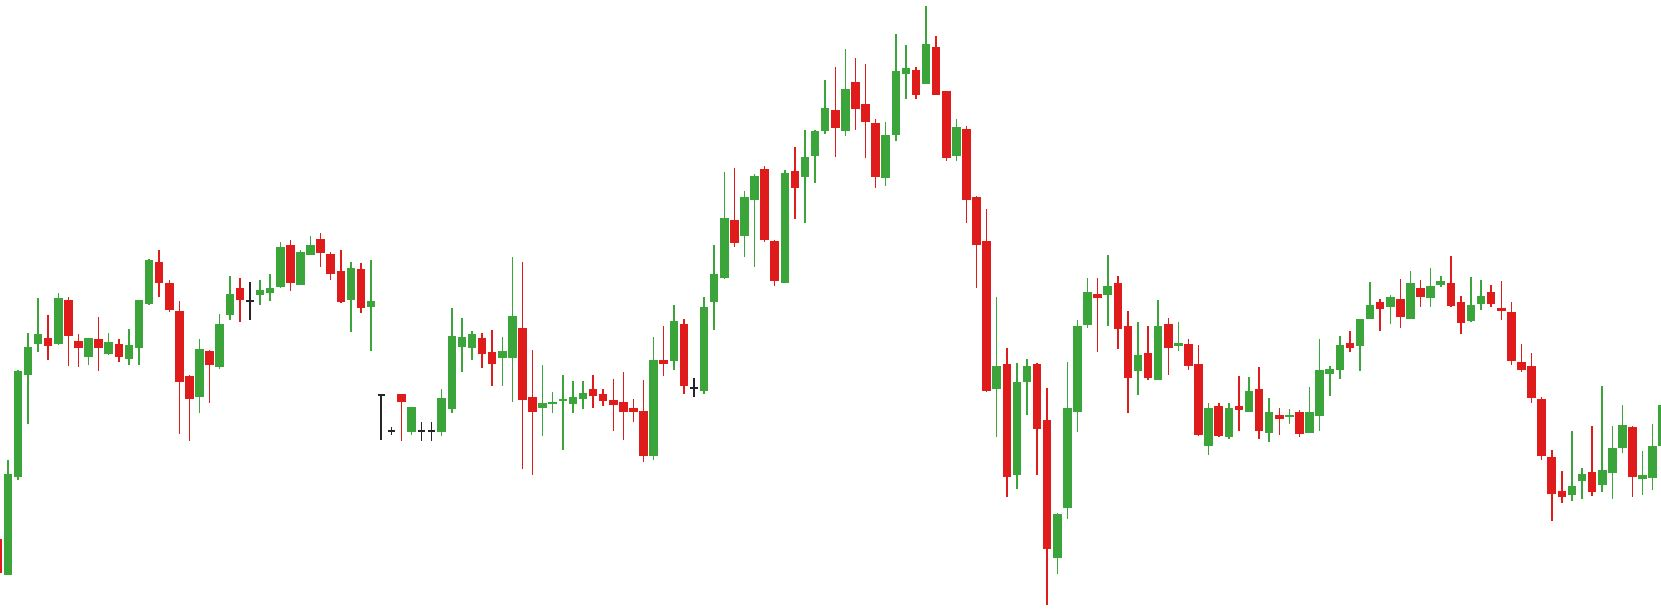sell: (838, 4, 944, 140)
